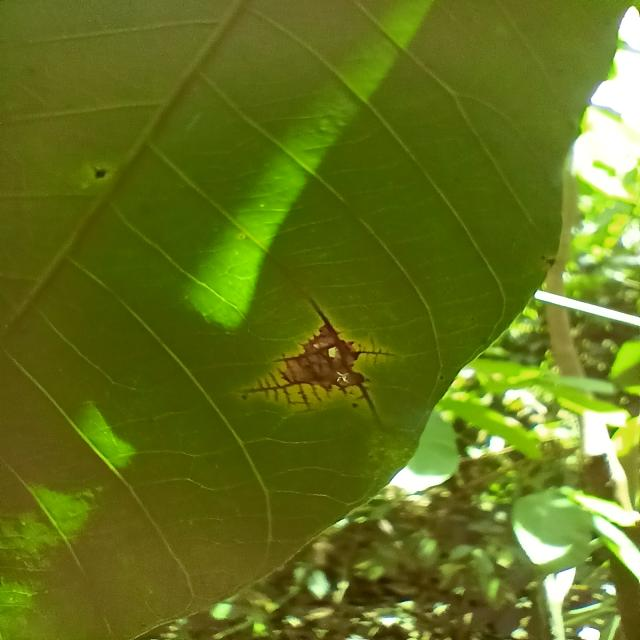Corynespora: (242, 297, 398, 412)
